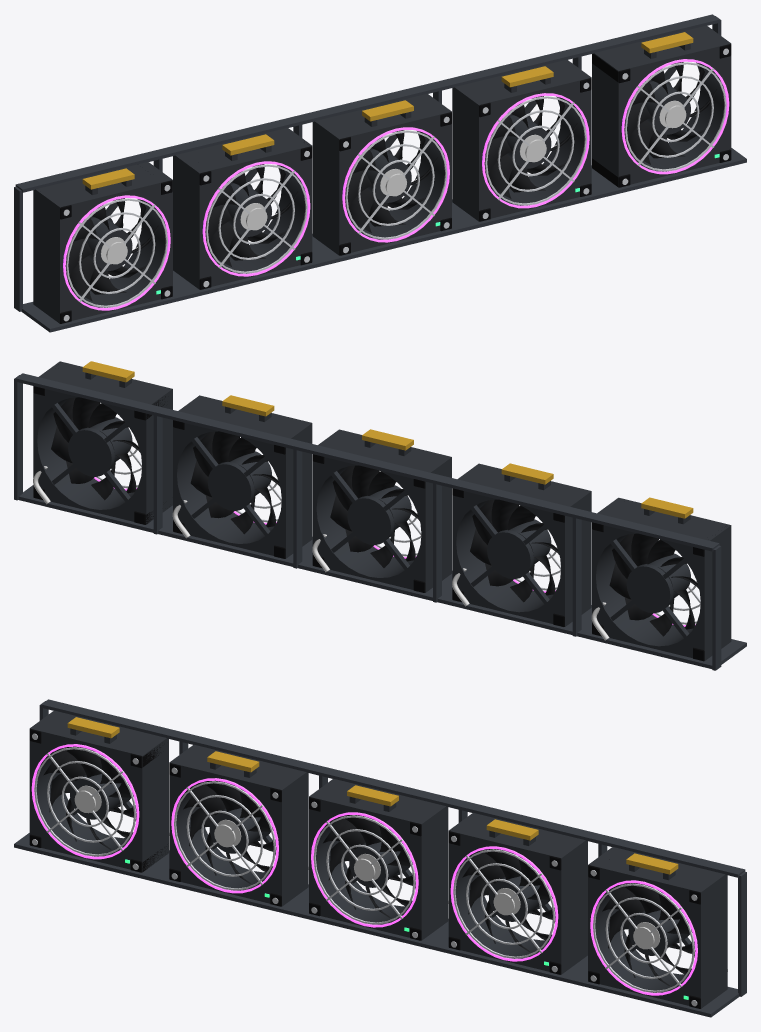
The model's file is hwm_cool_rear_door.glb.
The picture shows the model from 3 angles, top to bottom: view 1: azimuth 30°, elevation 25°; view 2: azimuth 150°, elevation 25°; view 3: azimuth 330°, elevation 25°; orthographic projection.
Parts seen in each view (by area): view 1: Body, Rotor_Z_2, Rotor_Z_0, Rotor_Z_3, Rotor_Z_4, Rotor_Z_1; view 2: Body, Rotor_Z_4, Rotor_Z_3, Rotor_Z_2, Rotor_Z_0, Rotor_Z_1; view 3: Body, Rotor_Z_4, Rotor_Z_3, Rotor_Z_2, Rotor_Z_0, Rotor_Z_1.
Part boxes in pixels (x1=…): Body: x1=14, y1=14, x2=746, y2=332; Rotor_Z_2: x1=345, y1=130, x2=437, y2=232; Rotor_Z_0: x1=65, y1=198, x2=158, y2=301; Rotor_Z_3: x1=484, y1=96, x2=577, y2=198; Rotor_Z_4: x1=624, y1=62, x2=717, y2=164; Rotor_Z_1: x1=205, y1=164, x2=298, y2=266; Body: x1=14, y1=361, x2=746, y2=670; Rotor_Z_4: x1=51, y1=397, x2=140, y2=500; Rotor_Z_3: x1=190, y1=431, x2=279, y2=534; Rotor_Z_2: x1=330, y1=465, x2=419, y2=567; Rotor_Z_0: x1=609, y1=533, x2=698, y2=636; Rotor_Z_1: x1=470, y1=499, x2=559, y2=602; Body: x1=14, y1=699, x2=746, y2=1017; Rotor_Z_4: x1=602, y1=883, x2=695, y2=985; Rotor_Z_3: x1=462, y1=849, x2=555, y2=951; Rotor_Z_2: x1=323, y1=815, x2=415, y2=917; Rotor_Z_0: x1=43, y1=746, x2=136, y2=849; Rotor_Z_1: x1=183, y1=780, x2=276, y2=883.
Size of the model in its own units: 0.5778 by 0.1033 by 0.049.
